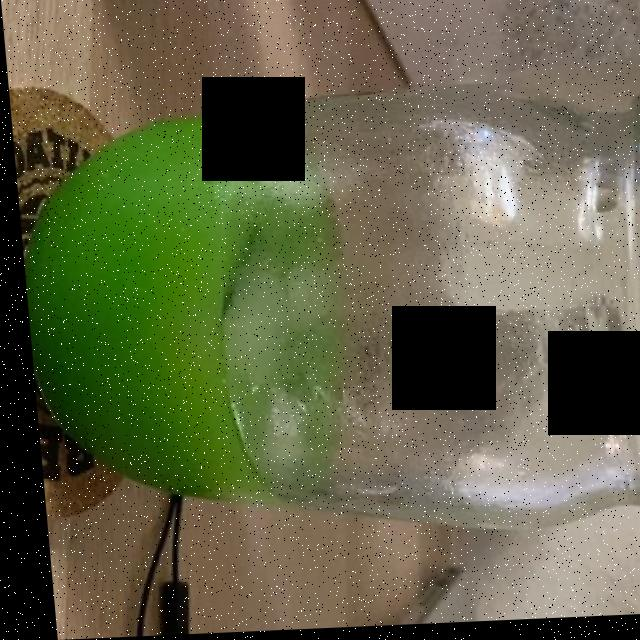cocktail: (29, 121, 362, 508)
